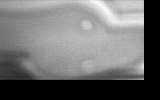cell: (76, 56, 98, 78), (78, 17, 95, 35)
